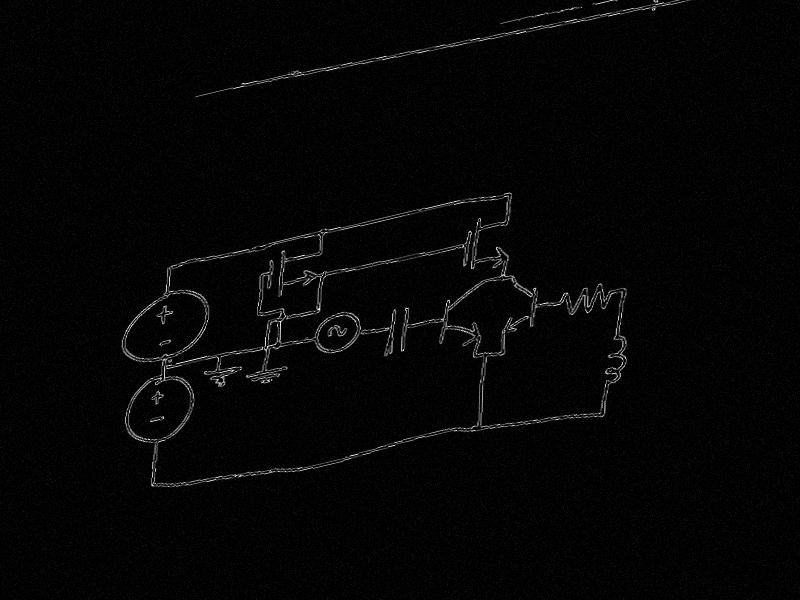-: (157, 337, 173, 348), (149, 414, 166, 424)
